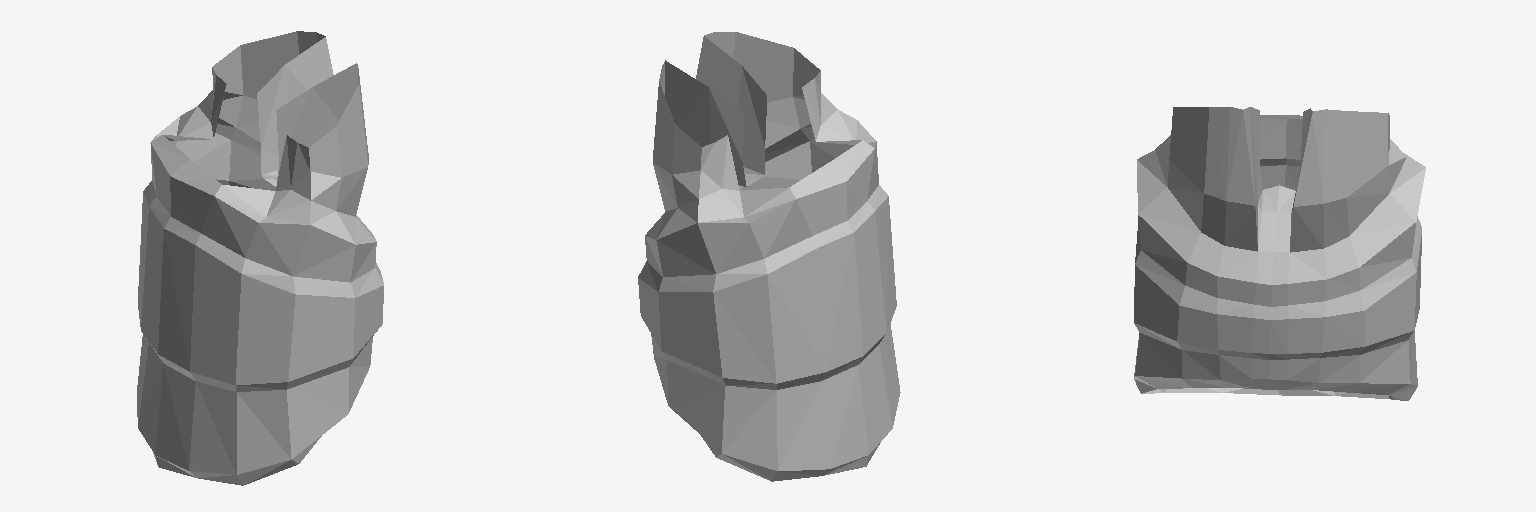
The model's file is LFinger12.obj.
3 renders of one model, left to right at view 1: azimuth 30°, elevation 25°; view 2: azimuth 150°, elevation 25°; view 3: azimuth 270°, elevation 25°, orthographic.
Visible parts, largest first — view 1: LFinger12_LFinger12; view 2: LFinger12_LFinger12; view 3: LFinger12_LFinger12.
Part boxes in pixels (x1,y1,x2,y2): LFinger12_LFinger12: (137,31,383,485); LFinger12_LFinger12: (638,32,900,481); LFinger12_LFinger12: (1134,107,1425,400).
Size of the model in its own units: 0.0193 by 0.0343 by 0.0242.